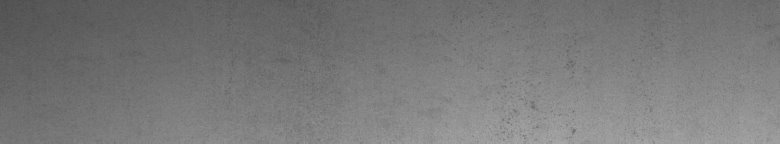ib: (502, 61, 577, 136)
